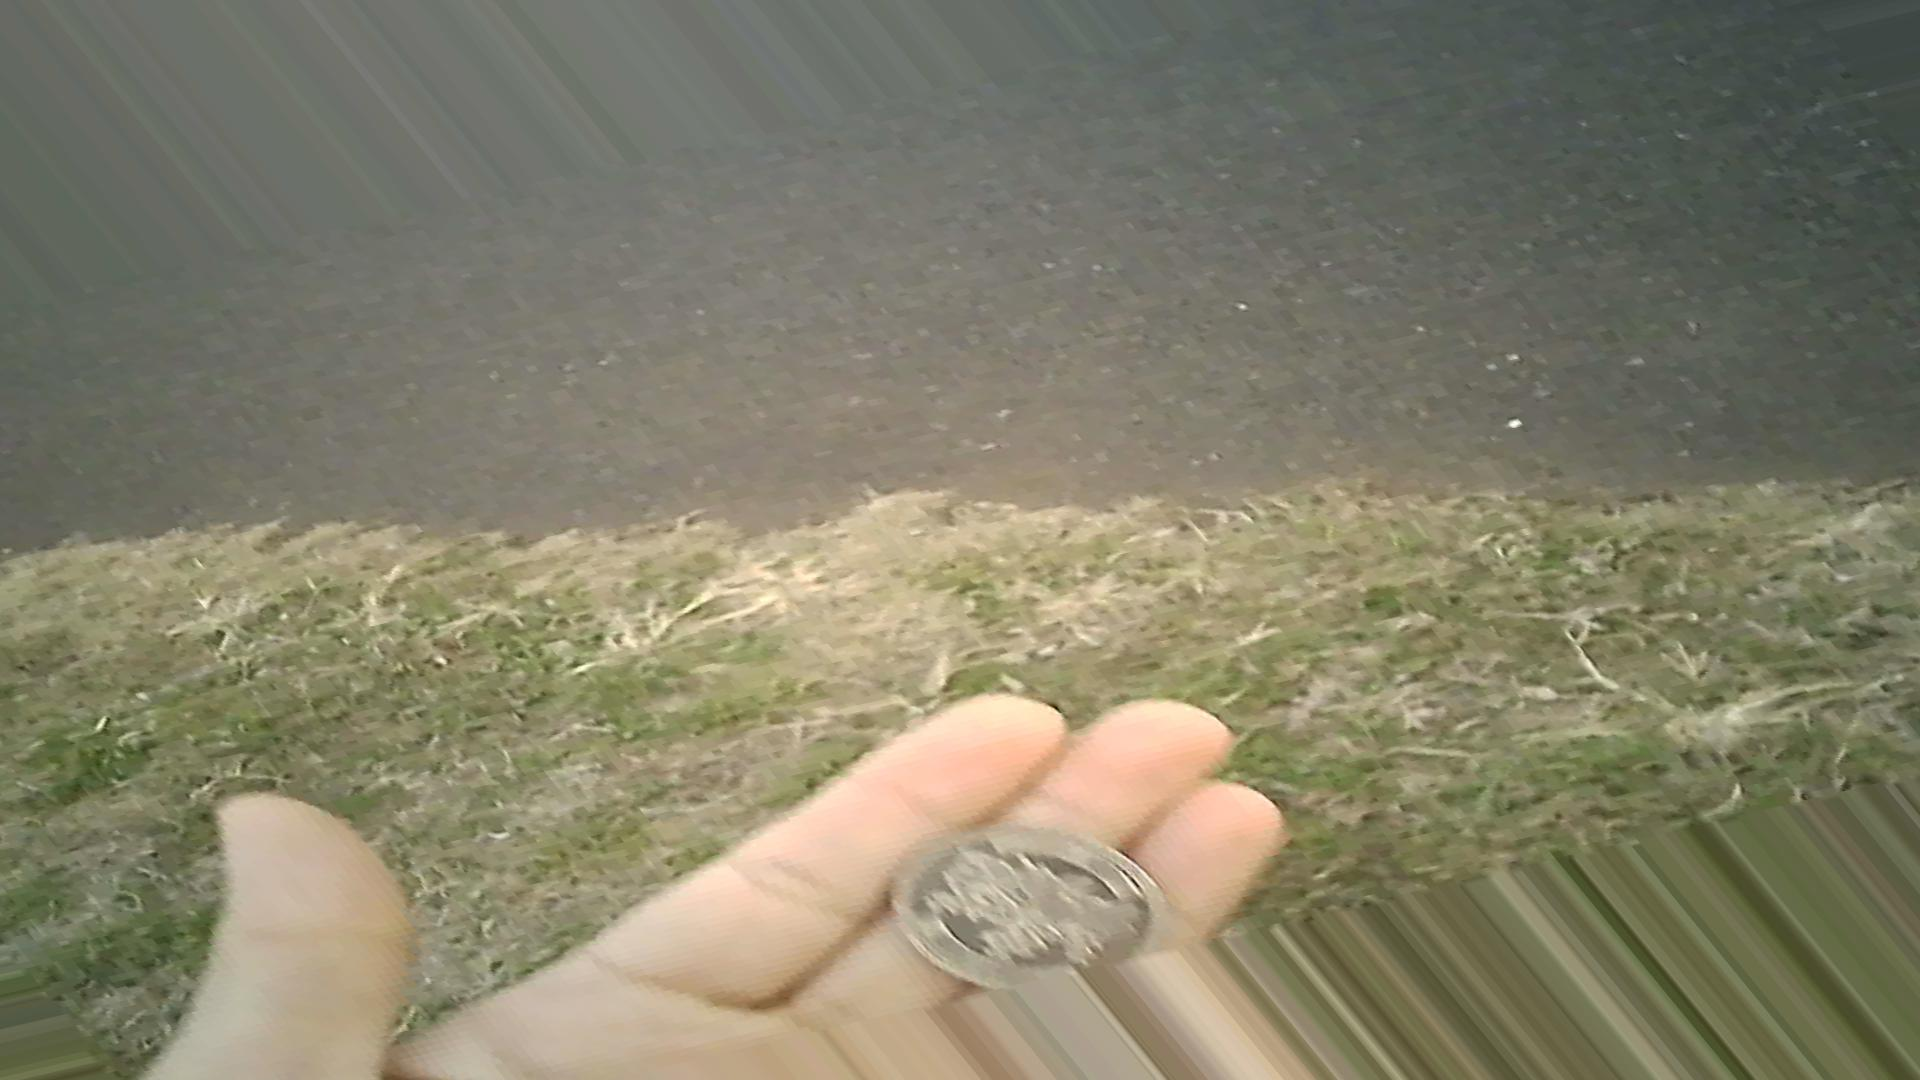500 Yen: (873, 811, 1159, 971)
